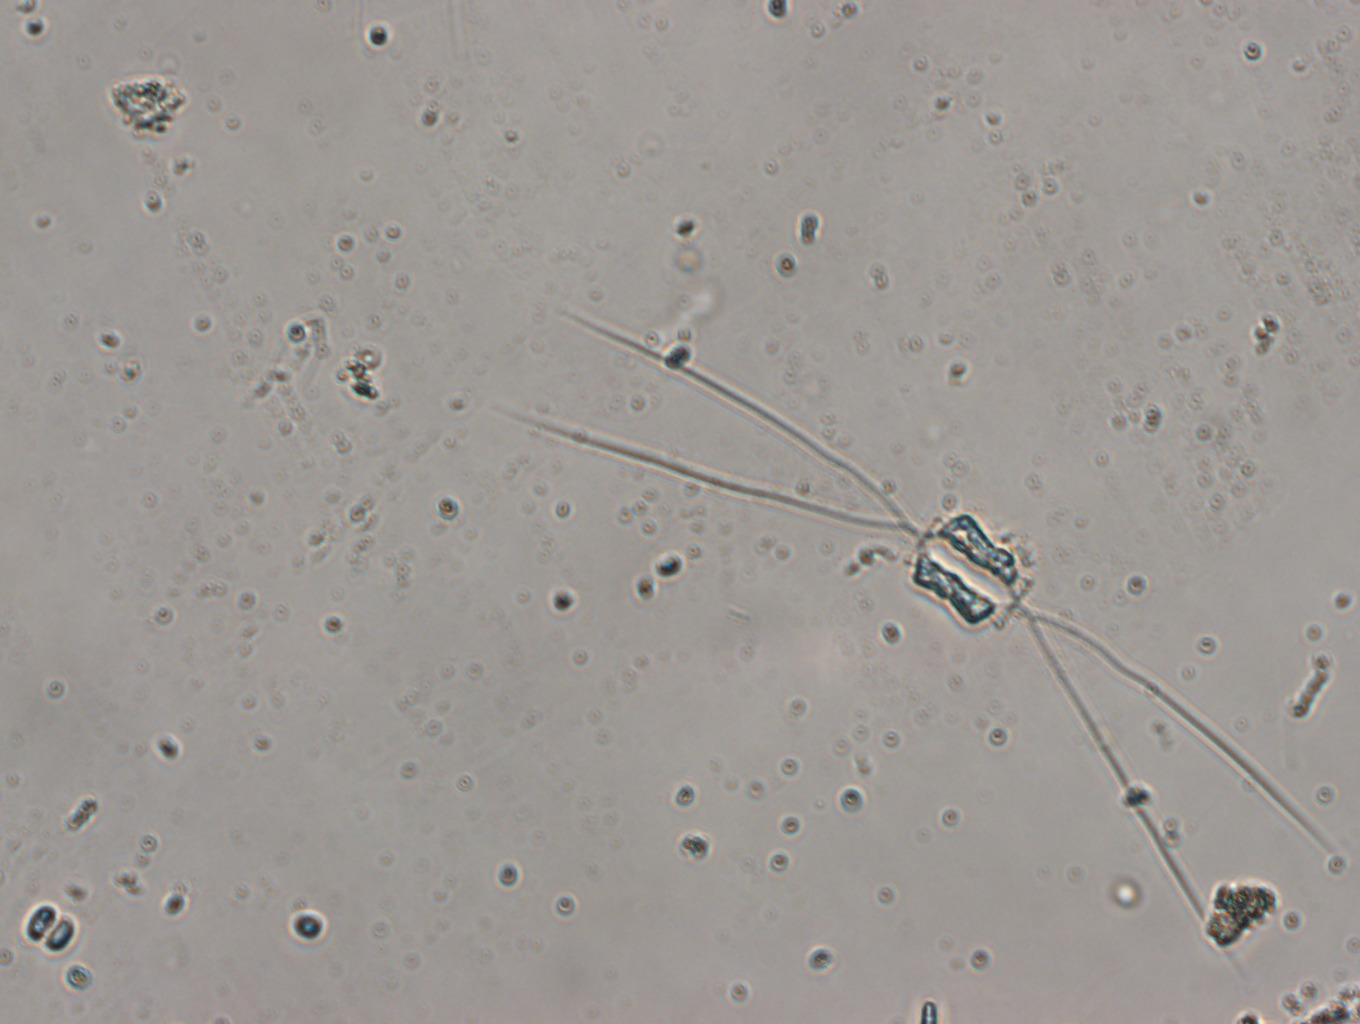chaetoceros: (493, 301, 1331, 968)
